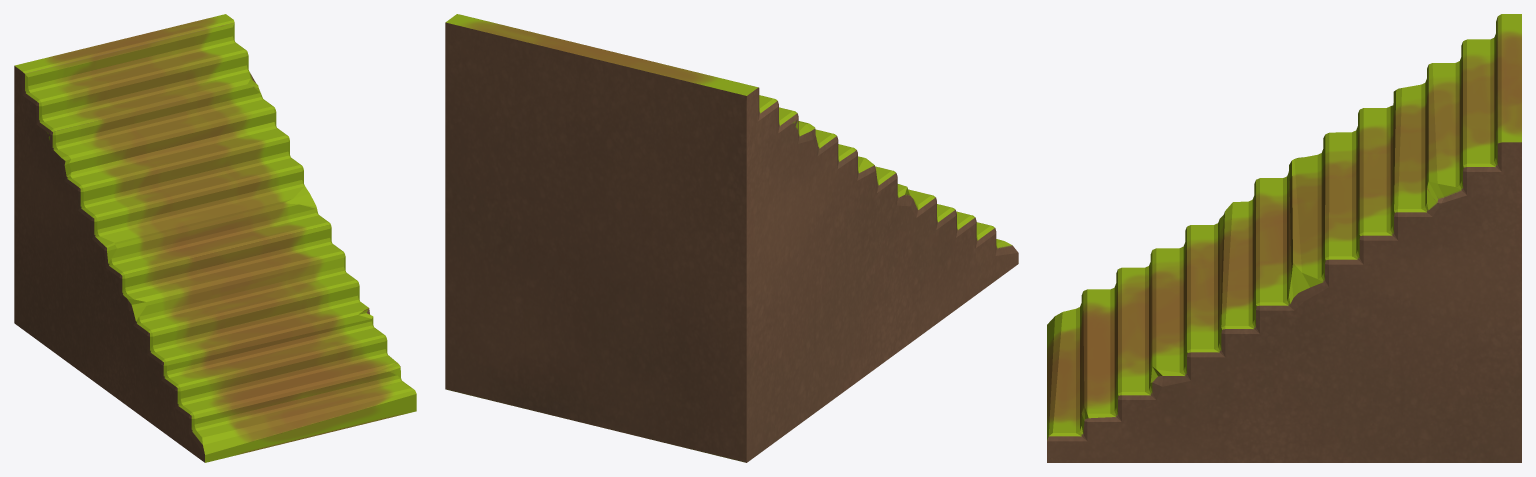
The model's file is groundStairs.fbx.
3 views of the same model, side by side, from view 1: azimuth 30°, elevation 25°; view 2: azimuth 150°, elevation 25°; view 3: azimuth 270°, elevation 25° (orthographic). The views are drawn at different scales.
Visible parts, largest first — view 1: Stairs1; view 2: Stairs1; view 3: Stairs1.
Part boxes in pixels (x1,y1,x2,y2): Stairs1: [14, 14, 416, 462]; Stairs1: [445, 14, 1018, 462]; Stairs1: [1047, 14, 1521, 462].
Size of the model in its own units: 1.86 by 2.17 by 2.91.
